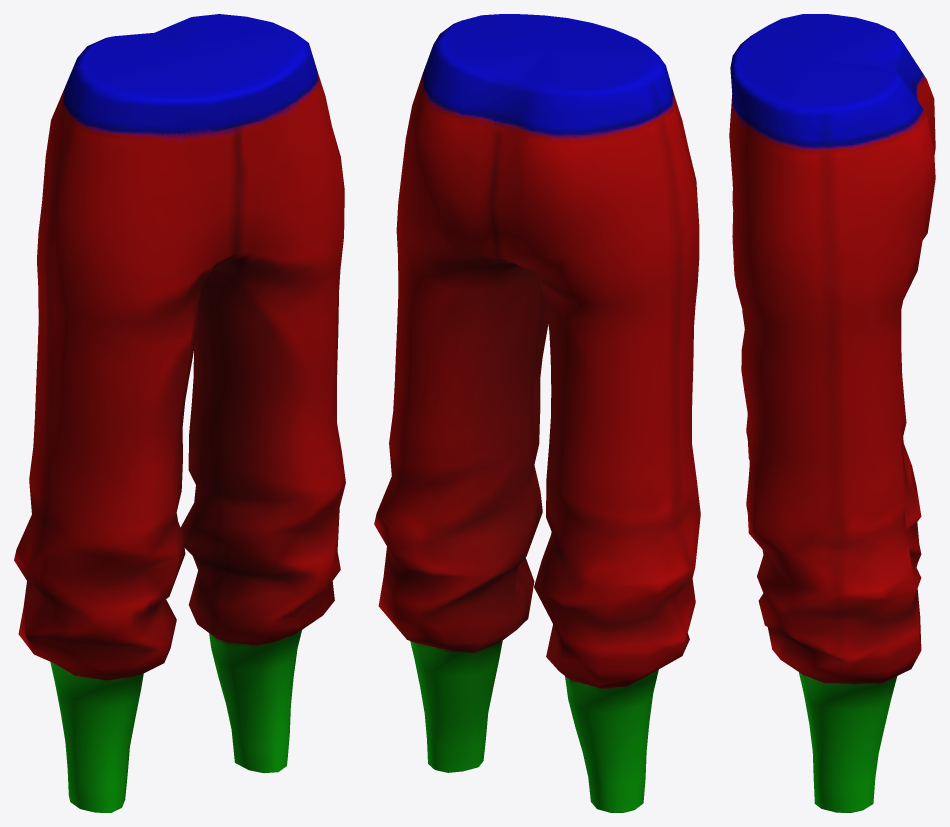
File: Bottom_BaggySweats.obj
The picture shows the model from 3 angles, left to right: view 1: azimuth 30°, elevation 25°; view 2: azimuth 150°, elevation 25°; view 3: azimuth 270°, elevation 25°; orthographic projection. The views are drawn at different scales.
Visible parts, largest first — view 1: Bottom_BaggySweats_0; view 2: Bottom_BaggySweats_0; view 3: Bottom_BaggySweats_0.
Boxes of the visible parts, bbox=[...] form: Bottom_BaggySweats_0: bbox=[14, 14, 345, 812]; Bottom_BaggySweats_0: bbox=[374, 14, 700, 812]; Bottom_BaggySweats_0: bbox=[729, 14, 935, 812].
Bounding box in the file's own units: 0.4125 × 0.9343 × 0.2477.
Materials: 1 (1 with a texture image).
